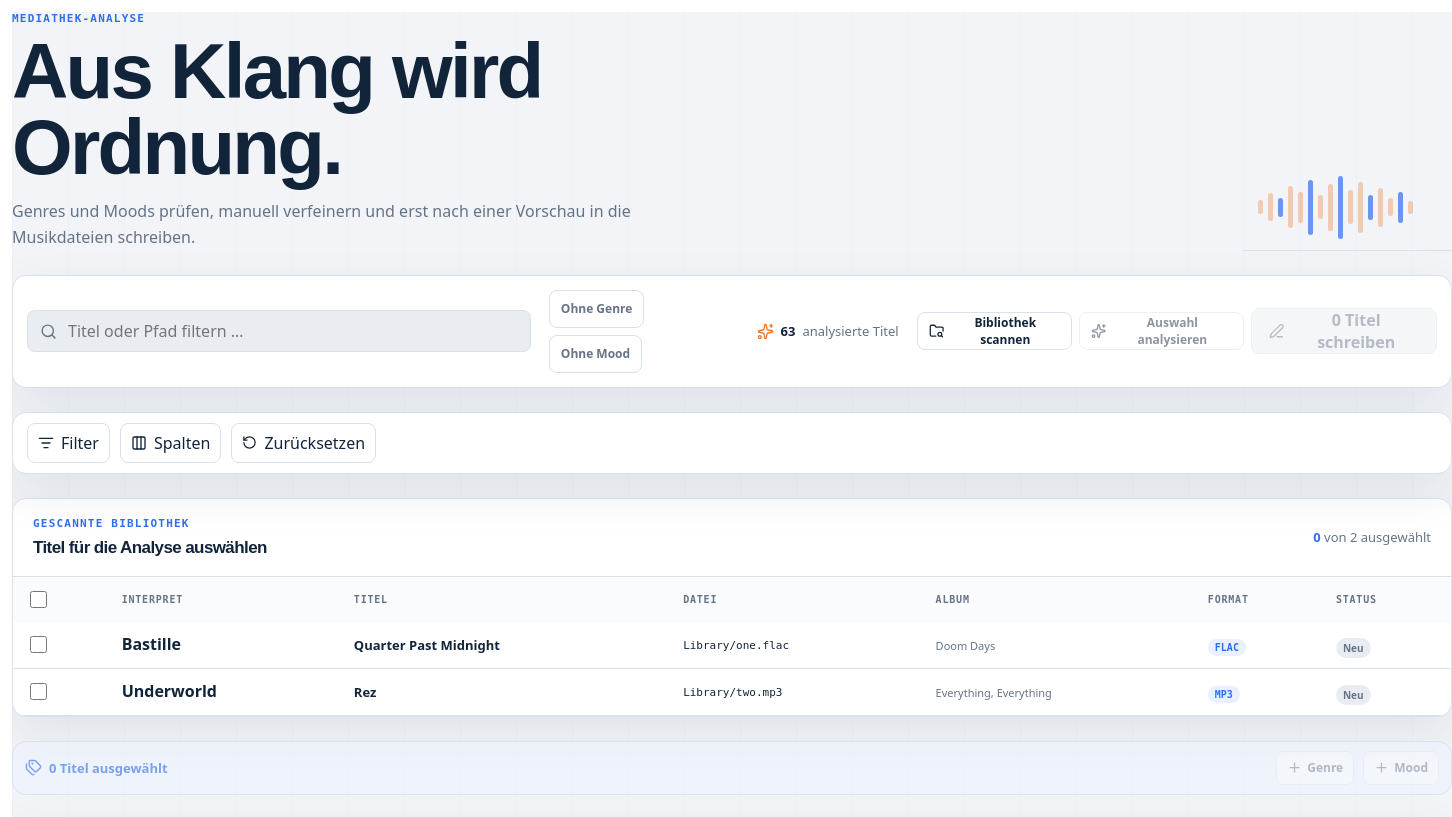
withholds stale library rows while the next quick-filter query fails
Expected: the checkbox named "Library/one.flac analysieren" is shown, [30,636,47,653]
Click the button "Ohne Genre" at (597,309), box [549,290,644,328]
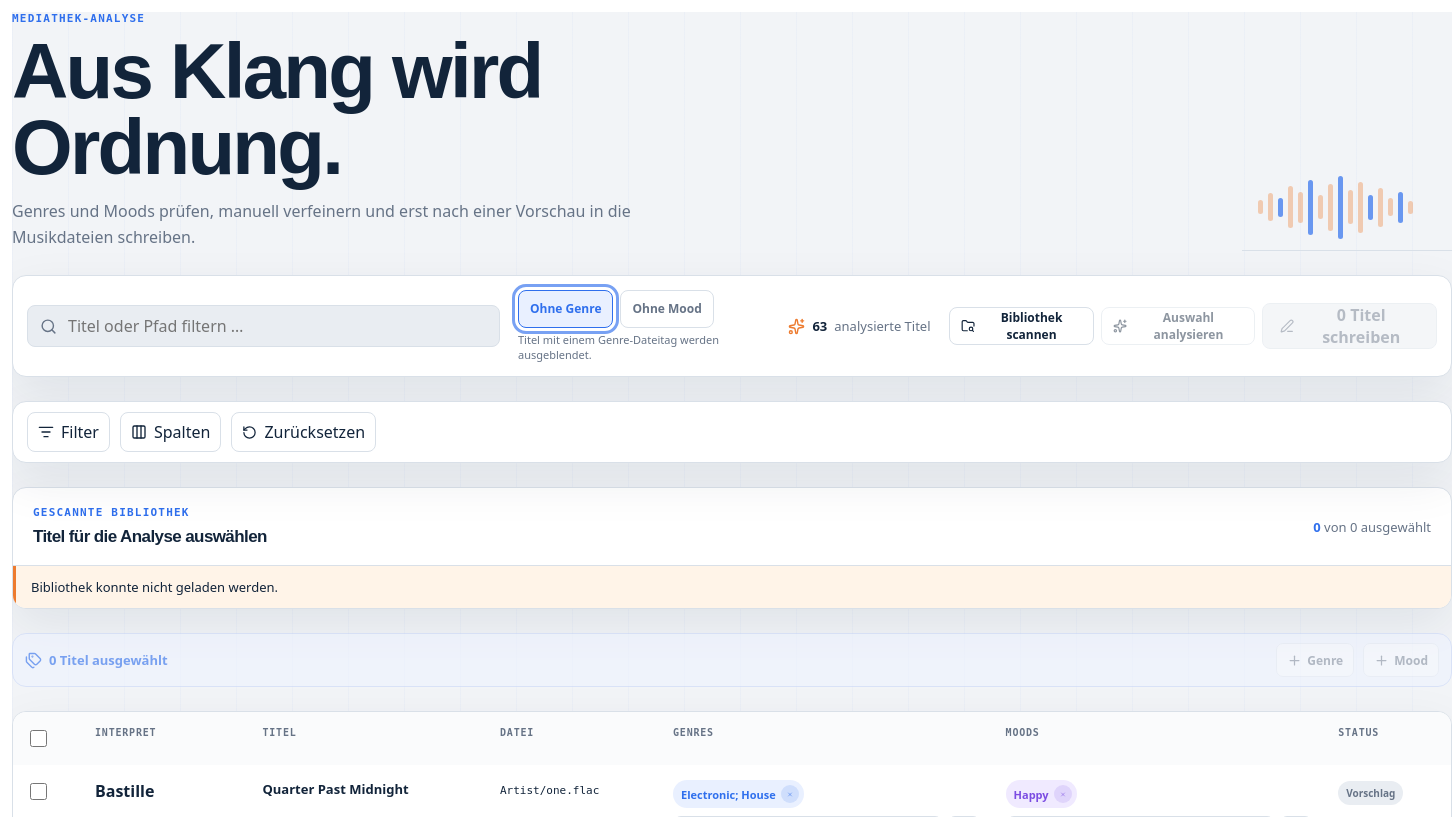
Expected: the button "Auswahl analysieren" is disabled, [1101,307,1255,345]
Expected: the text "Bibliothek konnte nicht geladen werden." is shown, [13,566,1451,608]
